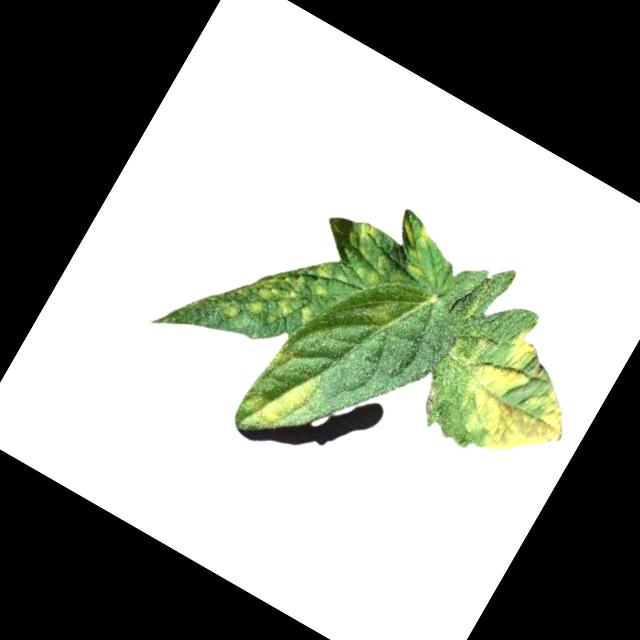Leaf_Mold: (431, 309, 600, 479), (202, 216, 346, 358), (236, 342, 329, 444), (380, 207, 449, 278), (338, 214, 383, 259)
